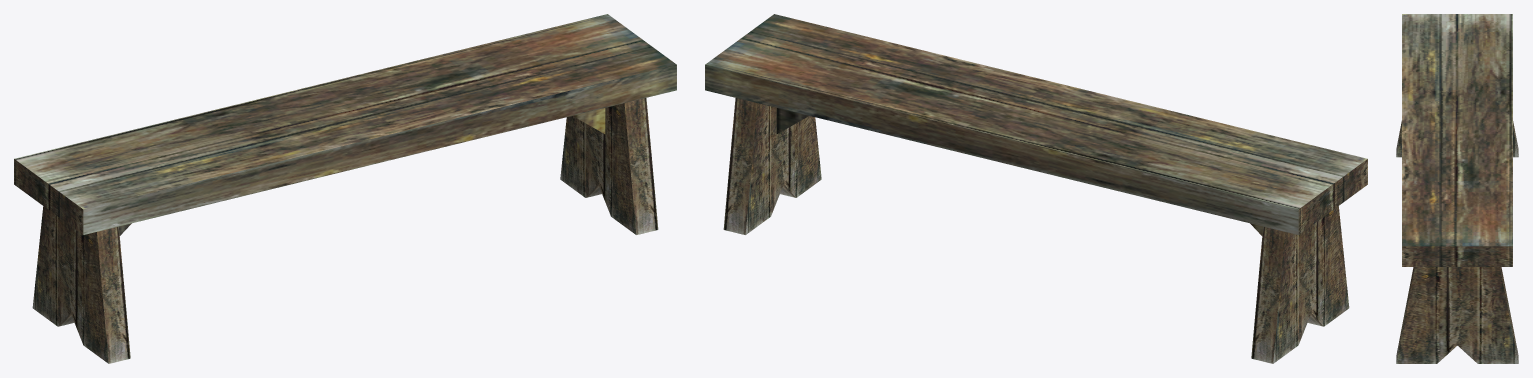
The model's file is skam2.glb.
The picture shows the model from 3 angles, left to right: view 1: azimuth 30°, elevation 25°; view 2: azimuth 150°, elevation 25°; view 3: azimuth 270°, elevation 25°; orthographic projection. The views are drawn at different scales.
Parts seen in each view (by area): view 1: skam2; view 2: skam2; view 3: skam2.
Boxes of the visible parts, x1,y1,x2,y2 form: skam2: [14, 14, 676, 363]; skam2: [705, 14, 1367, 363]; skam2: [1396, 14, 1518, 363].
Size of the model in its own units: 2.43 by 0.6156 by 0.54.
1 material, 1 textured.
